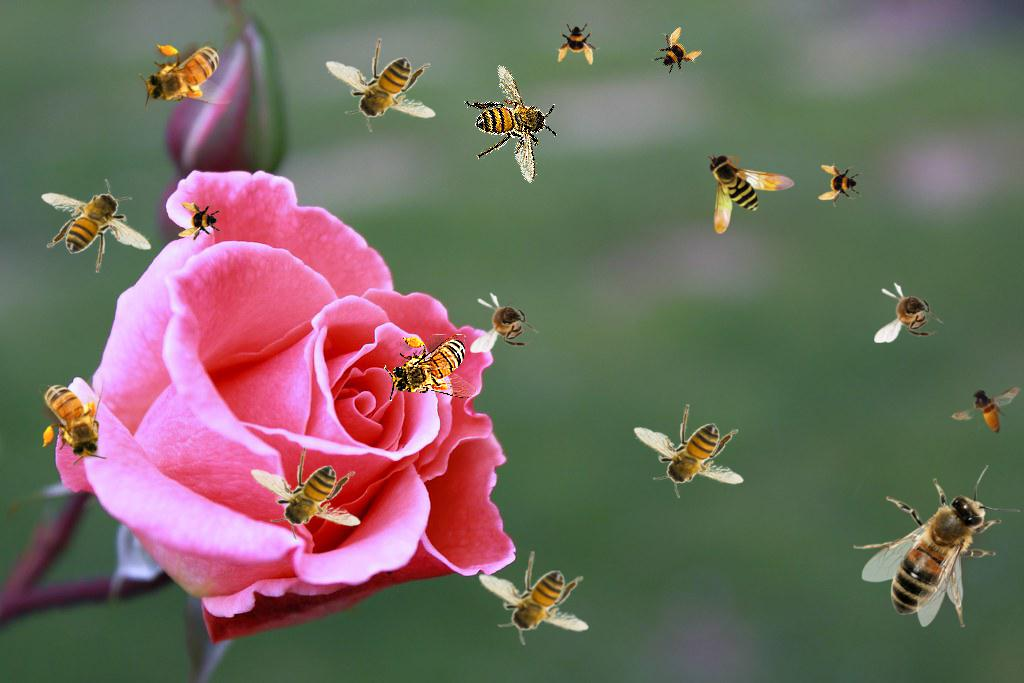Bee: (853, 465, 1020, 627), (440, 54, 585, 200), (478, 551, 589, 645), (250, 446, 361, 540), (633, 404, 744, 498), (41, 179, 152, 273), (325, 38, 436, 132), (707, 152, 795, 234), (383, 332, 479, 403), (139, 41, 232, 109), (39, 372, 107, 465), (470, 292, 540, 353), (874, 282, 944, 343), (643, 20, 707, 84), (950, 385, 1021, 435), (556, 21, 600, 65), (178, 200, 222, 244), (818, 163, 862, 207)
